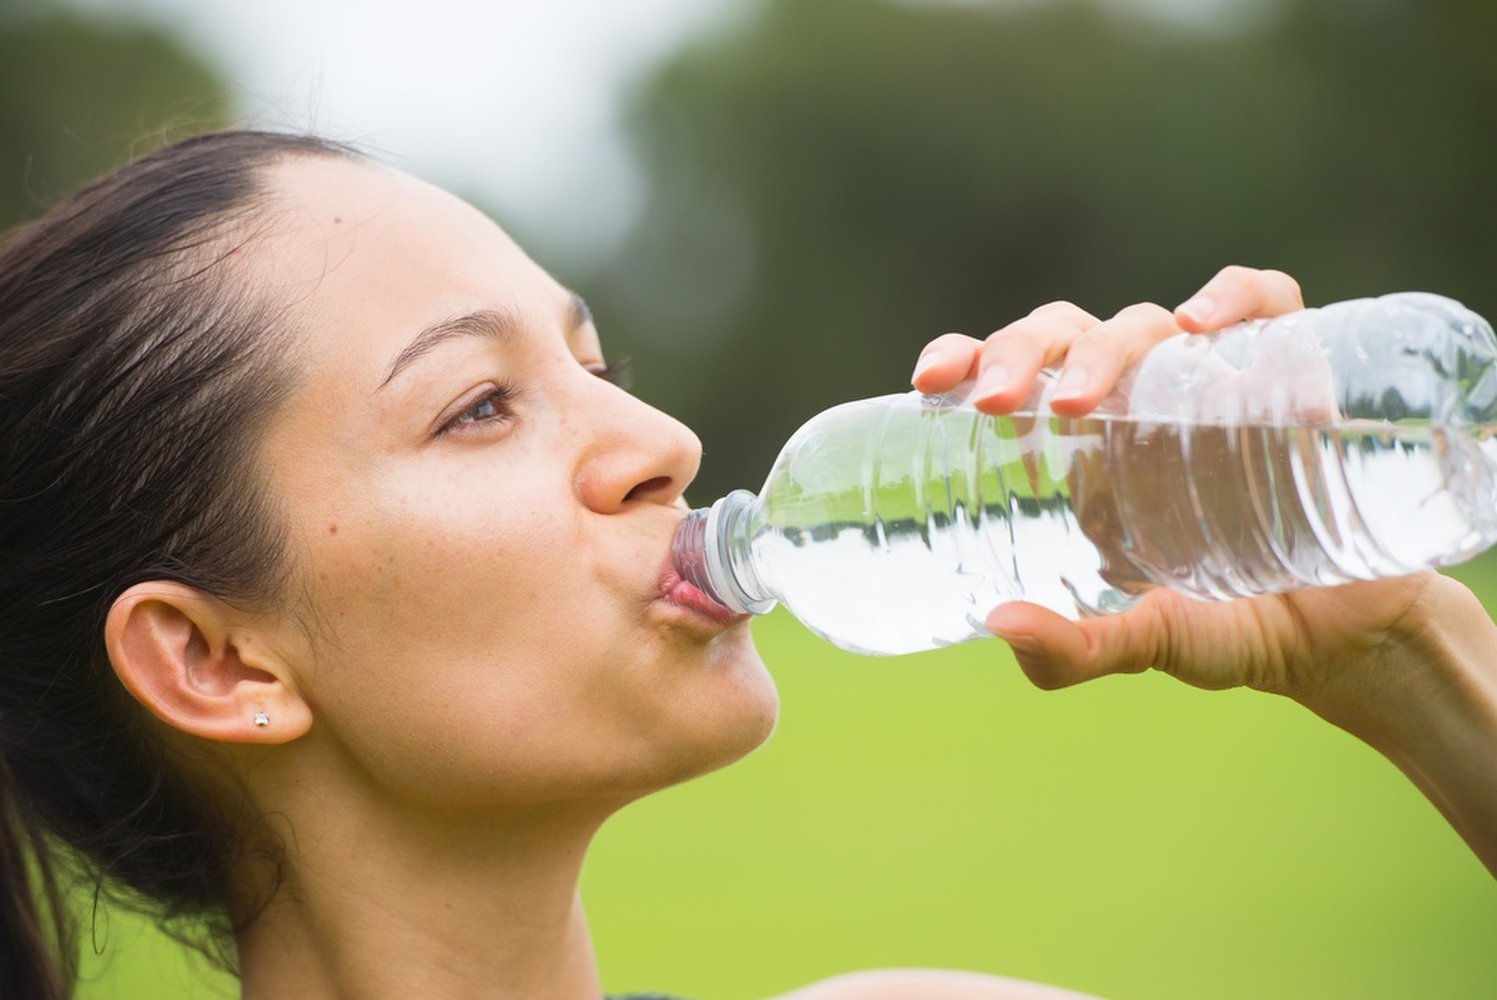bottle: (686, 292, 1497, 655)
